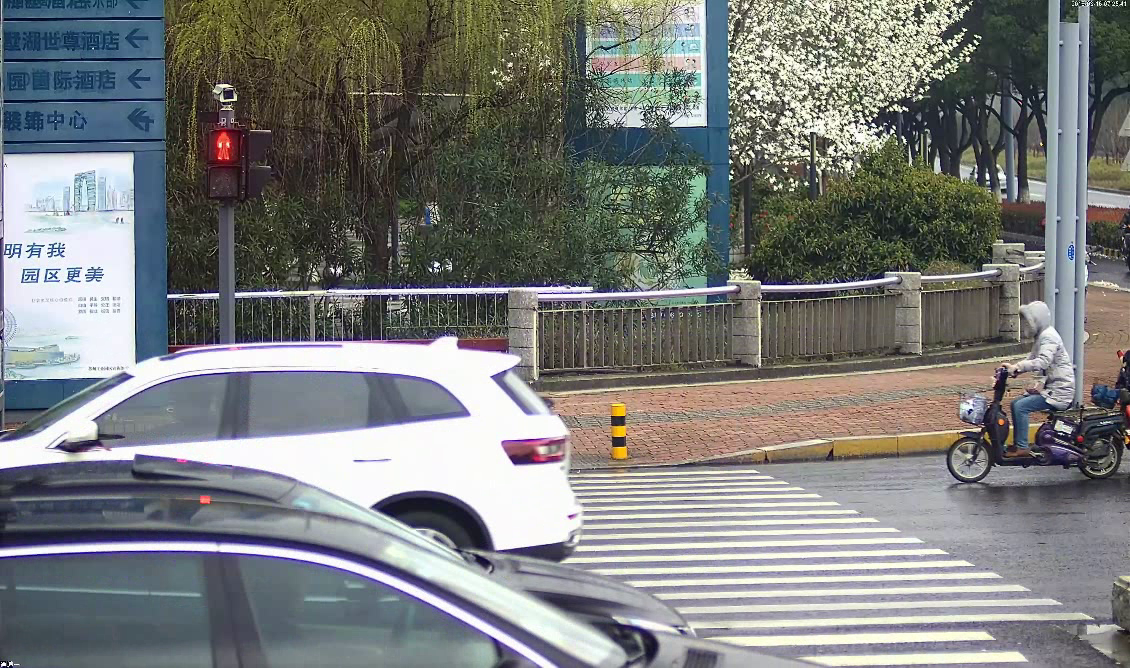person: (995, 294, 1083, 466)
